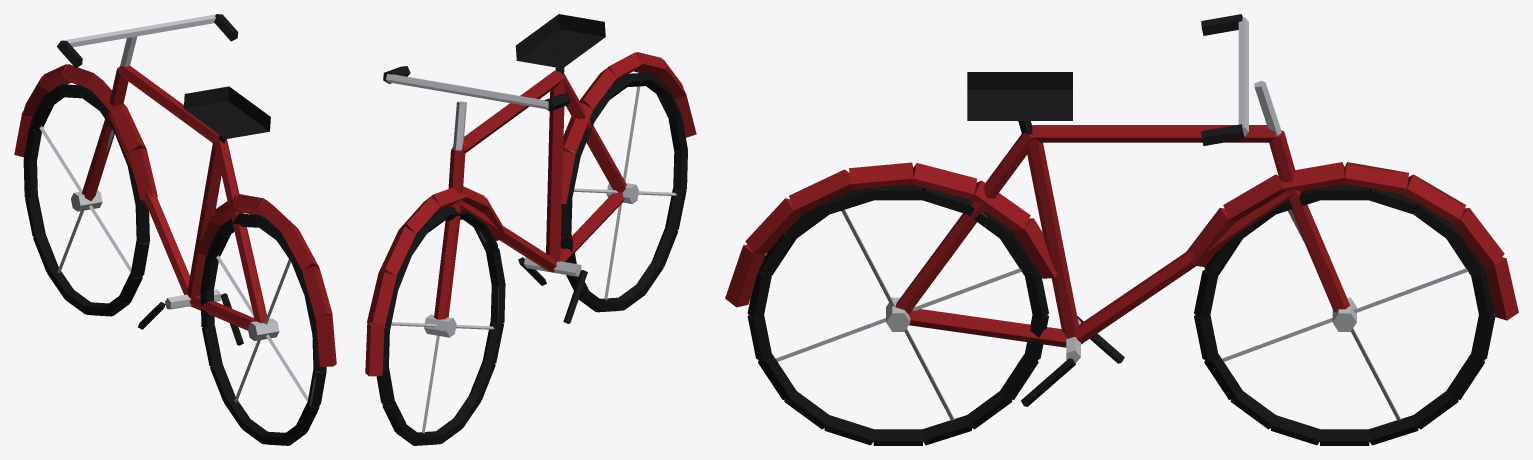
File: kolo_925c17af.glb
The picture shows the model from 3 angles, left to right: view 1: azimuth 30°, elevation 25°; view 2: azimuth 150°, elevation 25°; view 3: azimuth 270°, elevation 25°; orthographic projection. The views are drawn at different scales.
Visible parts, largest first — view 1: dum; view 2: dum; view 3: dum.
Boxes of the visible parts, x1=… form: dum: x1=14, y1=14, x2=336, y2=445; dum: x1=365, y1=14, x2=696, y2=445; dum: x1=725, y1=14, x2=1518, y2=445.
Bounding box in the file's own units: 0.5947 × 1.07 × 1.95.
Materials: 1 (1 with a texture image).
